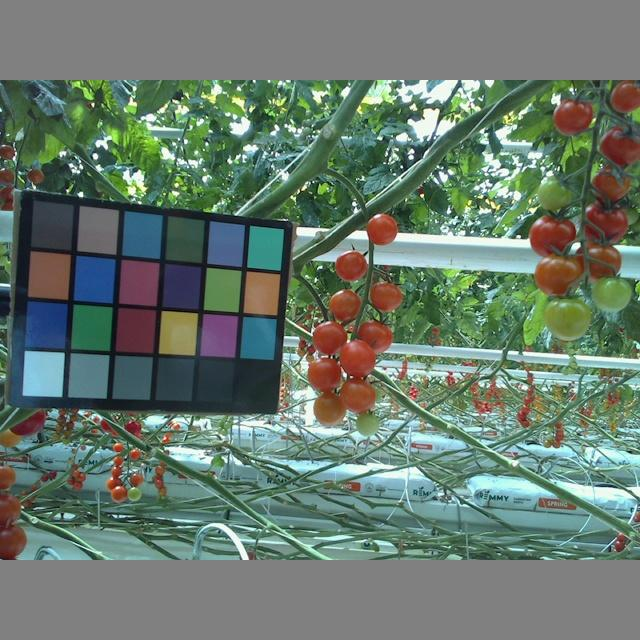green: (542, 297, 592, 342), (588, 275, 632, 313), (537, 174, 574, 212), (356, 412, 381, 437)
pink: (532, 254, 582, 298), (574, 240, 621, 284), (338, 336, 376, 378), (591, 164, 630, 204), (310, 389, 349, 427), (336, 378, 376, 414), (311, 321, 348, 358), (307, 356, 342, 395), (354, 320, 394, 354), (328, 288, 366, 323), (365, 213, 400, 248), (368, 278, 403, 309), (336, 250, 369, 282), (1, 524, 29, 556), (1, 494, 21, 525), (1, 466, 16, 494)
red: (579, 200, 631, 244), (528, 215, 577, 261), (595, 123, 640, 171), (553, 99, 594, 136), (611, 83, 640, 114)
